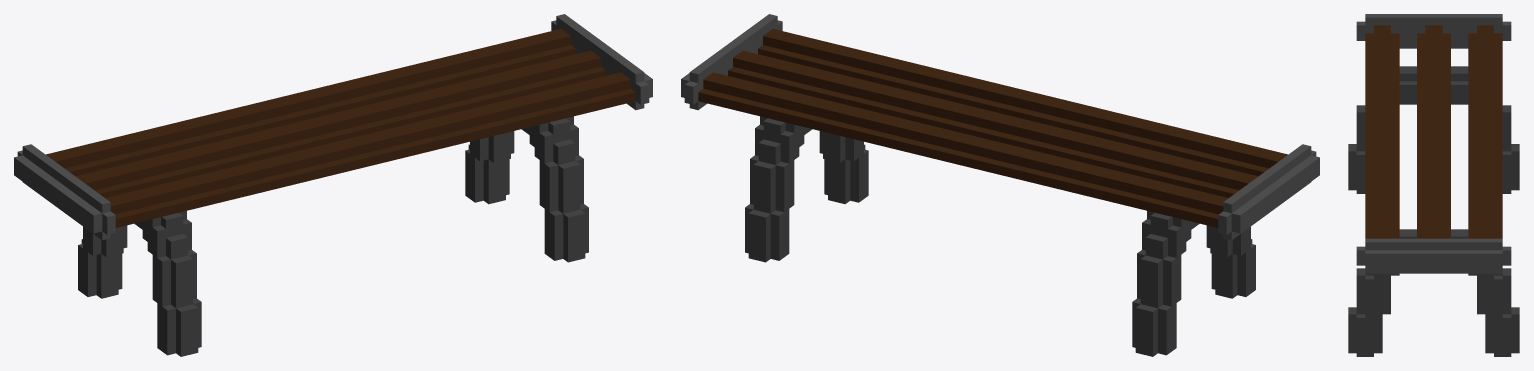
File: BenchVoxel.fbx
3 renders of one model, left to right at view 1: azimuth 30°, elevation 25°; view 2: azimuth 150°, elevation 25°; view 3: azimuth 270°, elevation 25°, orthographic. The views are drawn at different scales.
Visible parts, largest first — view 1: Cube.012, Cube.015, Cube.014, Cube.013, Cube.016; view 2: Cube.012, Cube.013, Cube.014, Cube.015, Cube.016; view 3: Cube.012, Cube.016, Cube.013, Cube.015, Cube.014.
Part boxes in pixels (bbox=[...]): Cube.012: bbox=[78, 116, 588, 356]; Cube.015: bbox=[105, 72, 635, 227]; Cube.014: bbox=[76, 50, 605, 197]; Cube.013: bbox=[46, 29, 575, 176]; Cube.016: bbox=[14, 14, 652, 240]; Cube.012: bbox=[745, 116, 1255, 356]; Cube.013: bbox=[698, 72, 1228, 227]; Cube.014: bbox=[728, 50, 1257, 197]; Cube.015: bbox=[758, 29, 1287, 176]; Cube.016: bbox=[681, 14, 1319, 240]; Cube.012: bbox=[1348, 66, 1519, 356]; Cube.016: bbox=[1356, 14, 1511, 273]; Cube.013: bbox=[1468, 25, 1502, 238]; Cube.015: bbox=[1365, 25, 1399, 238]; Cube.014: bbox=[1417, 25, 1450, 238].
Size of the model in its own units: 1625 by 450 by 500.
